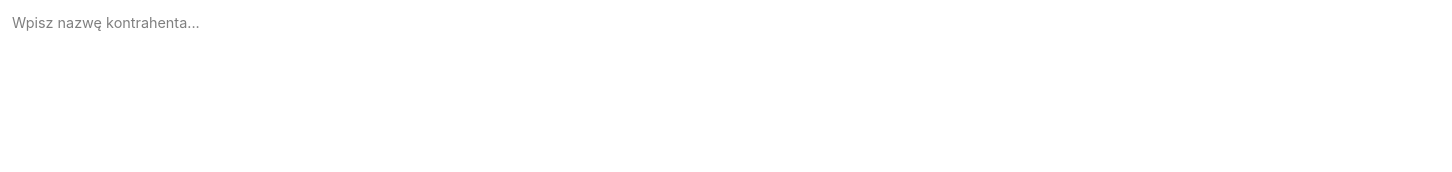
Test case: ContractorField › picks a contractor with the arrows and Enter, the focus staying in the field
This screenshot has width=1452, height=172.
Type "Prob" into the dropdown. click: (124, 23)
box: x1=12 y1=12 x2=236 y2=34
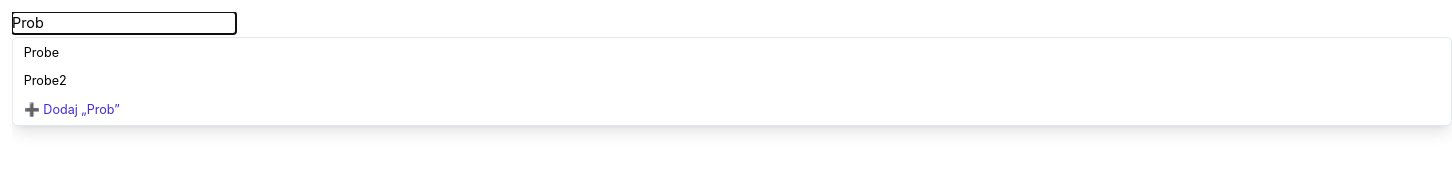
Expected: the option "Probe" is shown, x1=24 y1=45 x2=59 y2=60
Press Arrowdown Arrowdown
Press Enter
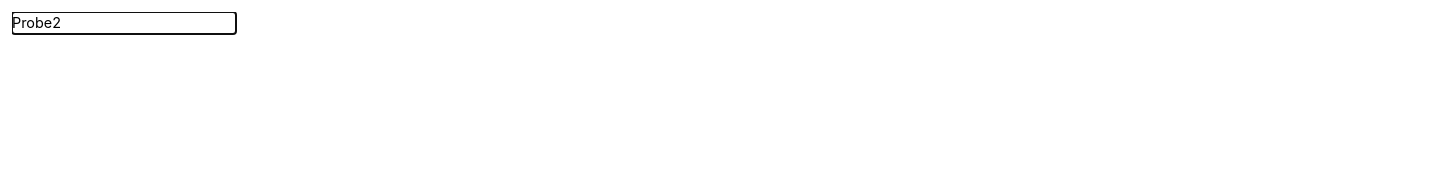
Expected: the dropdown holds "Probe2", x1=12 y1=12 x2=236 y2=34
Expected: the list is gone
